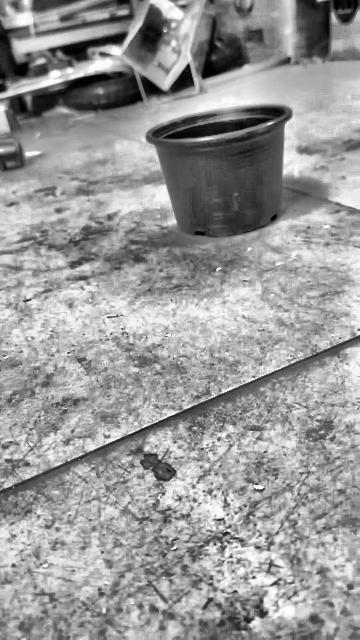pot: (147, 104, 292, 238)
